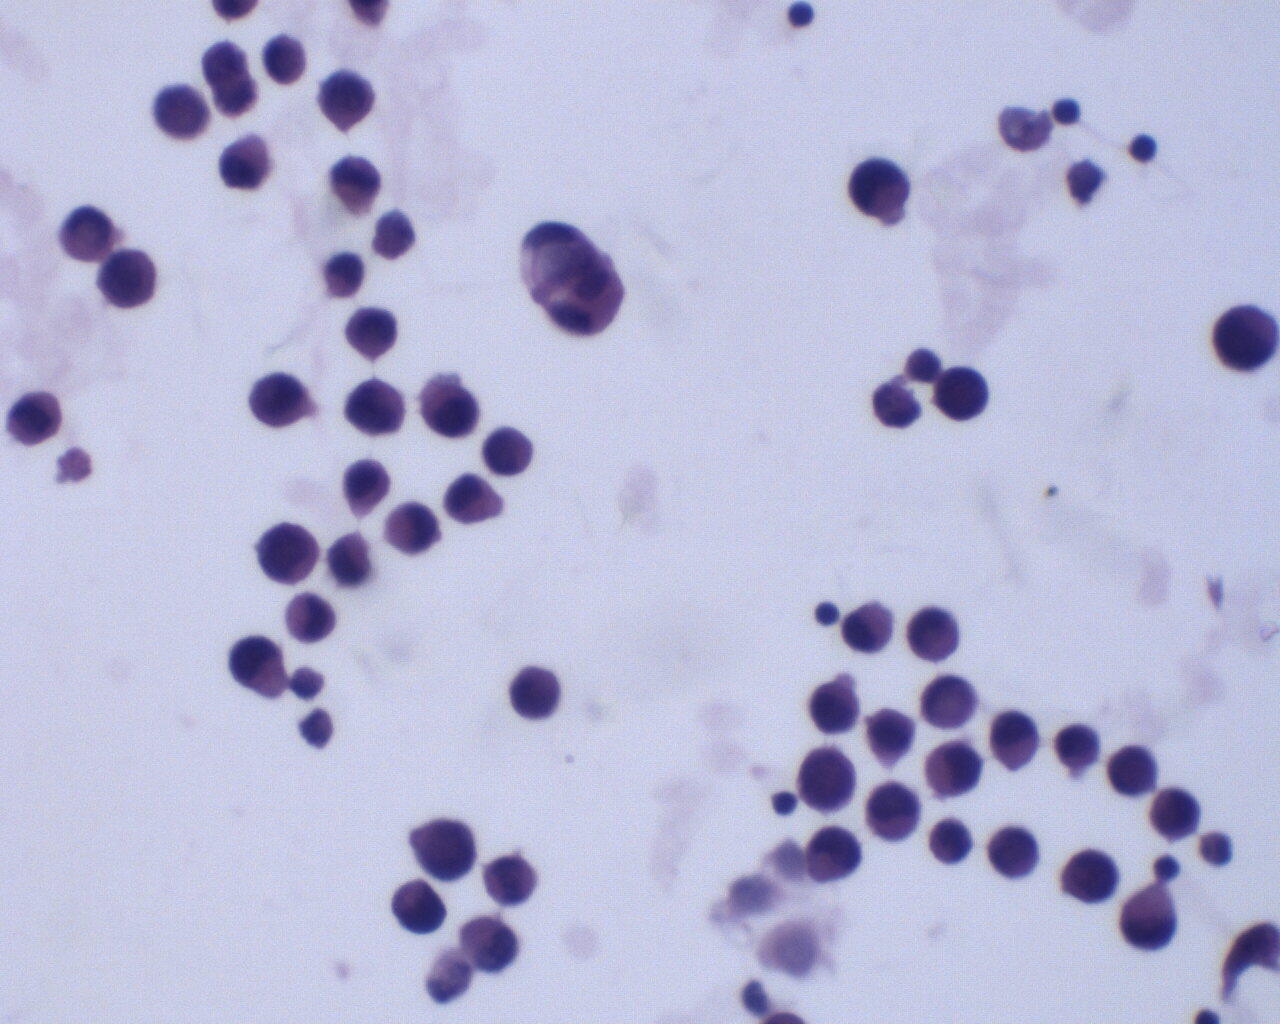ab: (1203, 299, 1280, 377), (847, 153, 917, 227), (255, 515, 321, 591), (920, 737, 987, 806), (406, 813, 475, 880), (344, 372, 409, 443), (246, 369, 310, 439), (95, 247, 161, 310), (931, 359, 994, 425), (478, 848, 546, 908), (798, 747, 856, 818), (315, 68, 380, 130), (418, 376, 483, 438), (866, 775, 923, 845), (1143, 782, 1207, 843), (905, 601, 963, 668), (390, 878, 453, 938), (806, 672, 863, 739), (1065, 845, 1124, 908), (505, 664, 568, 722), (478, 427, 542, 480), (986, 825, 1044, 882), (1052, 722, 1109, 775)
lymph: (1120, 126, 1163, 167), (810, 594, 845, 631), (779, 1, 821, 30)
